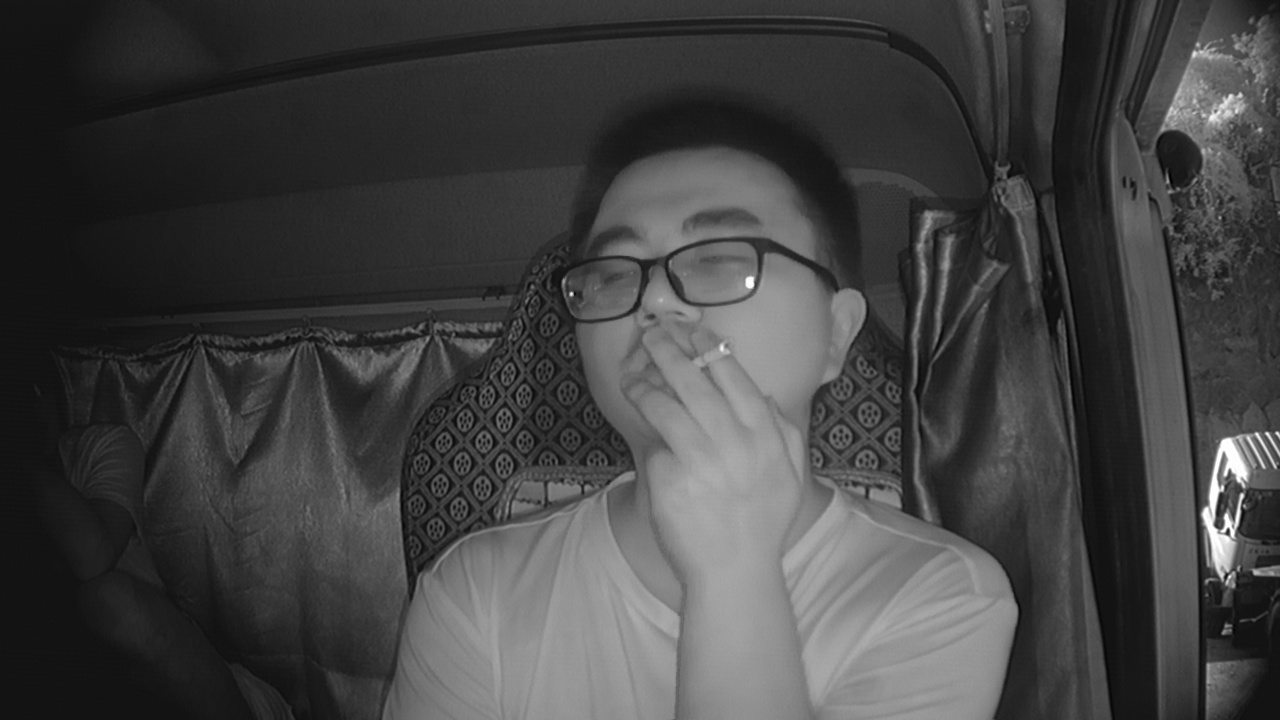hand: (623, 327, 798, 526)
